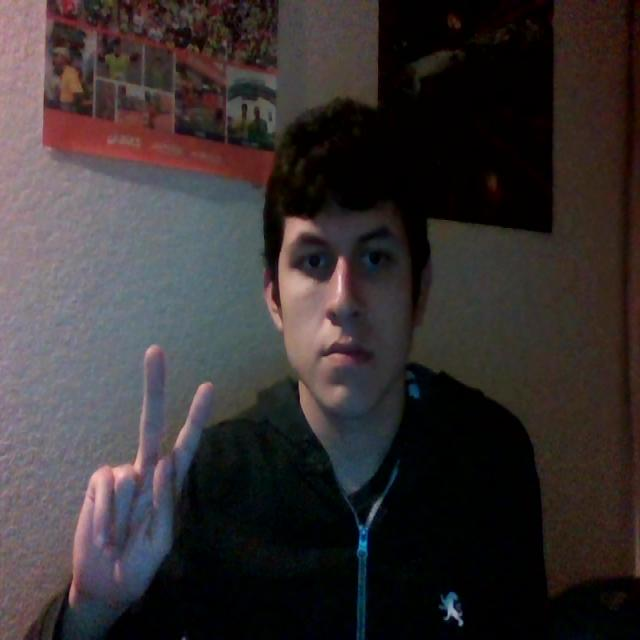K: (70, 317, 259, 640)
